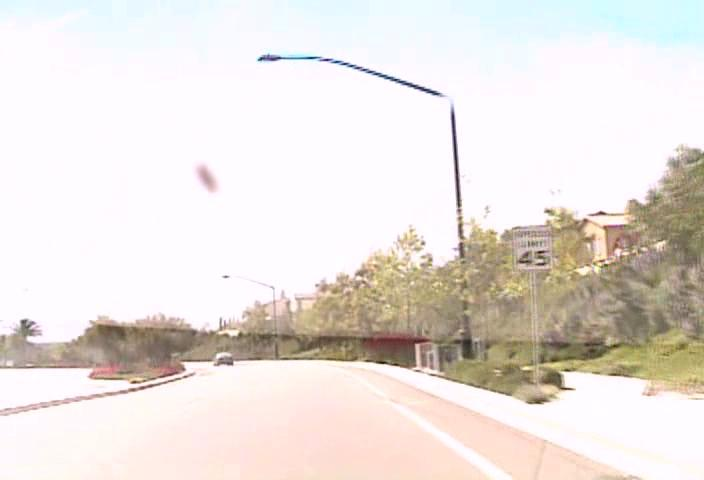speedLimit45: (512, 223, 553, 270)
